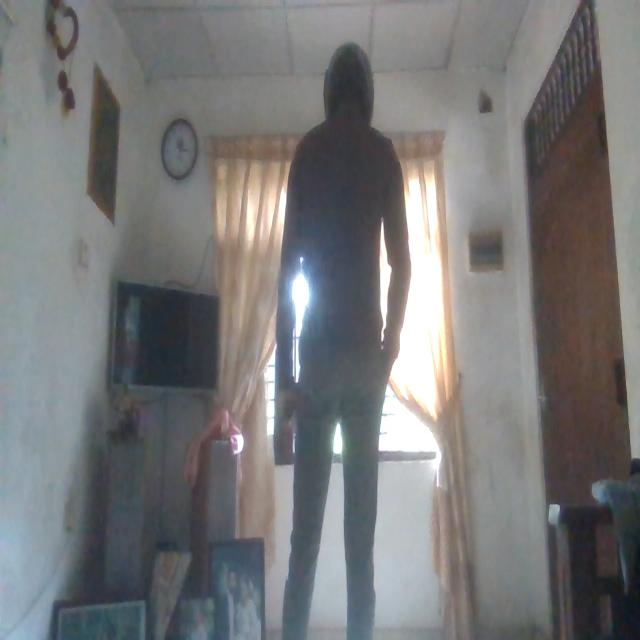Helmet_Wearer: (318, 40, 384, 135)
Person: (270, 23, 406, 640)
